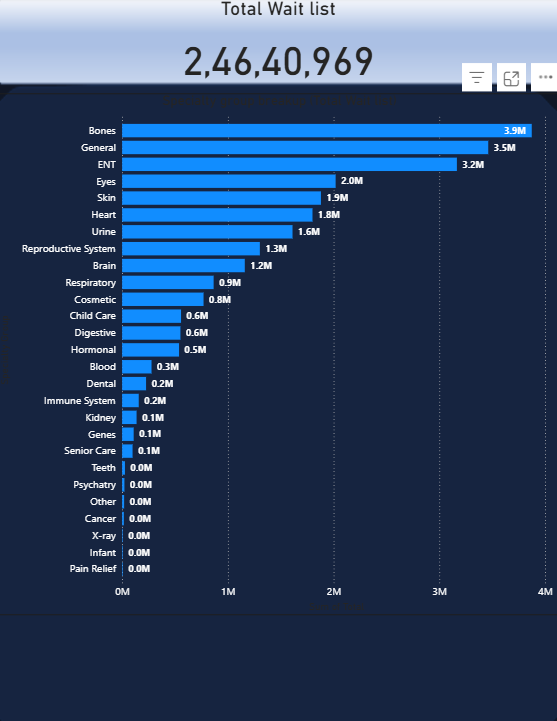

The dashboard page shown, as its layout file describes it:
{"tool":"powerbi","page":{"name":"Drilldown","canvas":[816,1056],"ordinal":2},"visuals":[{"type":"barChart","title":"Specialty group breakup (Total Wait list)","fields":{"Category":["Mapping_Specialty.Specialty Group"],"Y":["Sum(All_Data.Total)"]},"box":[0,138.7,815.5,751.7],"z":0},{"type":"card","title":"Total Wait list","fields":{"Values":["Sum(All_Data.Total)"]},"box":[20.1,0,773.6,138.7],"z":1000}]}

Visuals, with their boxes in screenshot pixels (x1, y1, x2, y2), scaled from the page's 816x1056 canvas onto the 557x721 screenshot:
"Specialty group breakup (Total Wait list)" barChart: bbox(0, 95, 556, 608)
"Total Wait list" card: bbox(14, 0, 542, 95)
